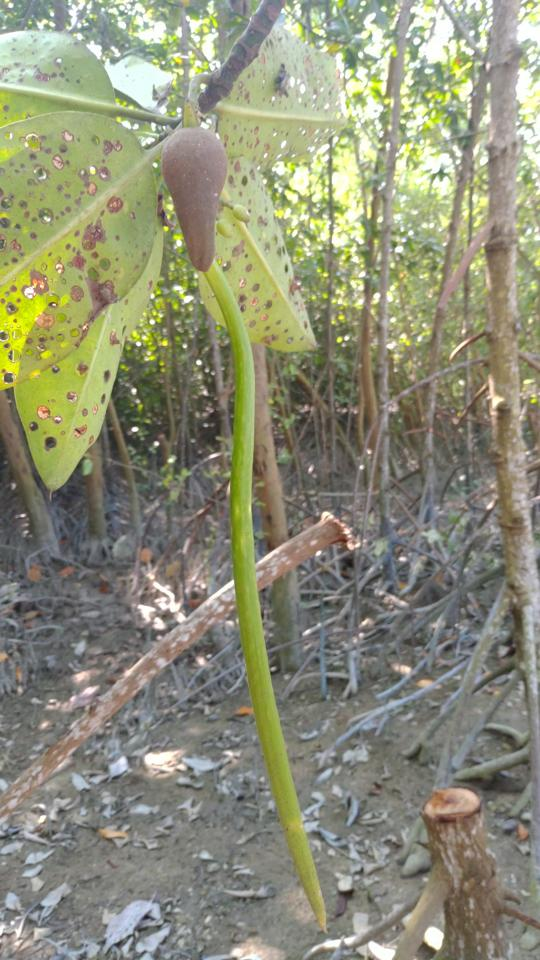mentah: (130, 82, 345, 943)
